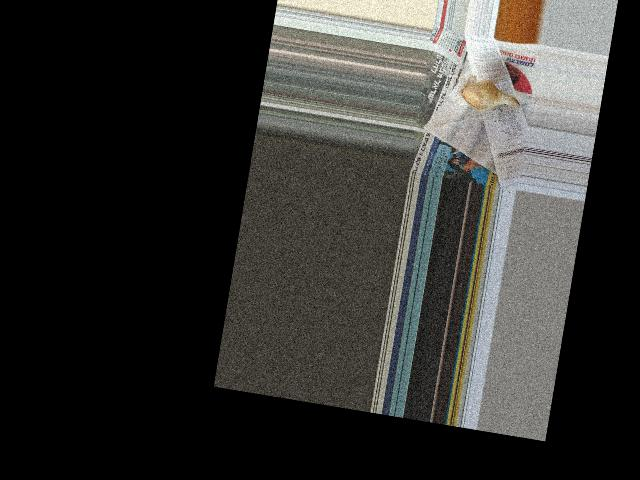onion: (458, 78, 505, 115)
